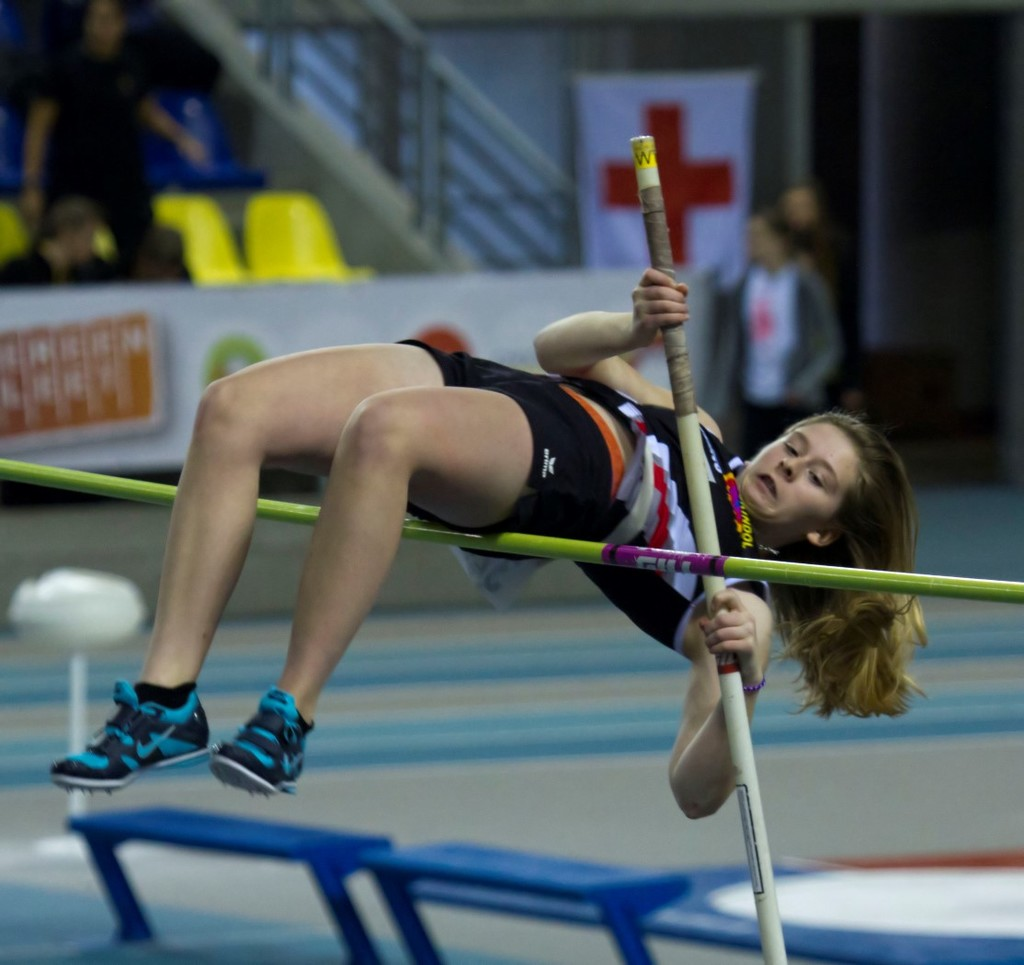Human_hand: (699, 593, 761, 686), (631, 267, 689, 347), (181, 138, 200, 168), (21, 198, 38, 230)
